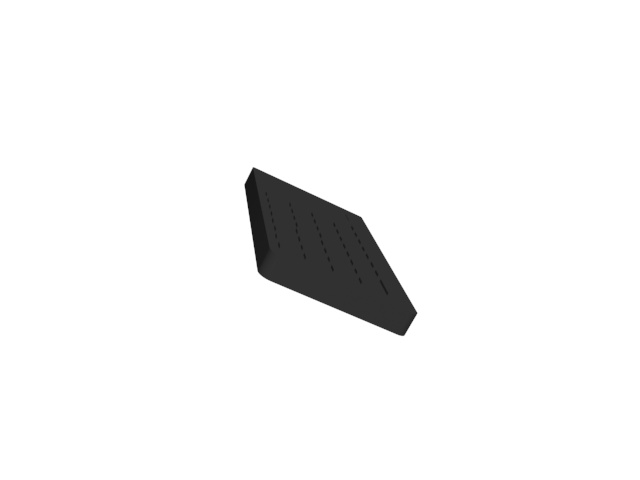calculator: (241, 161, 424, 344)
